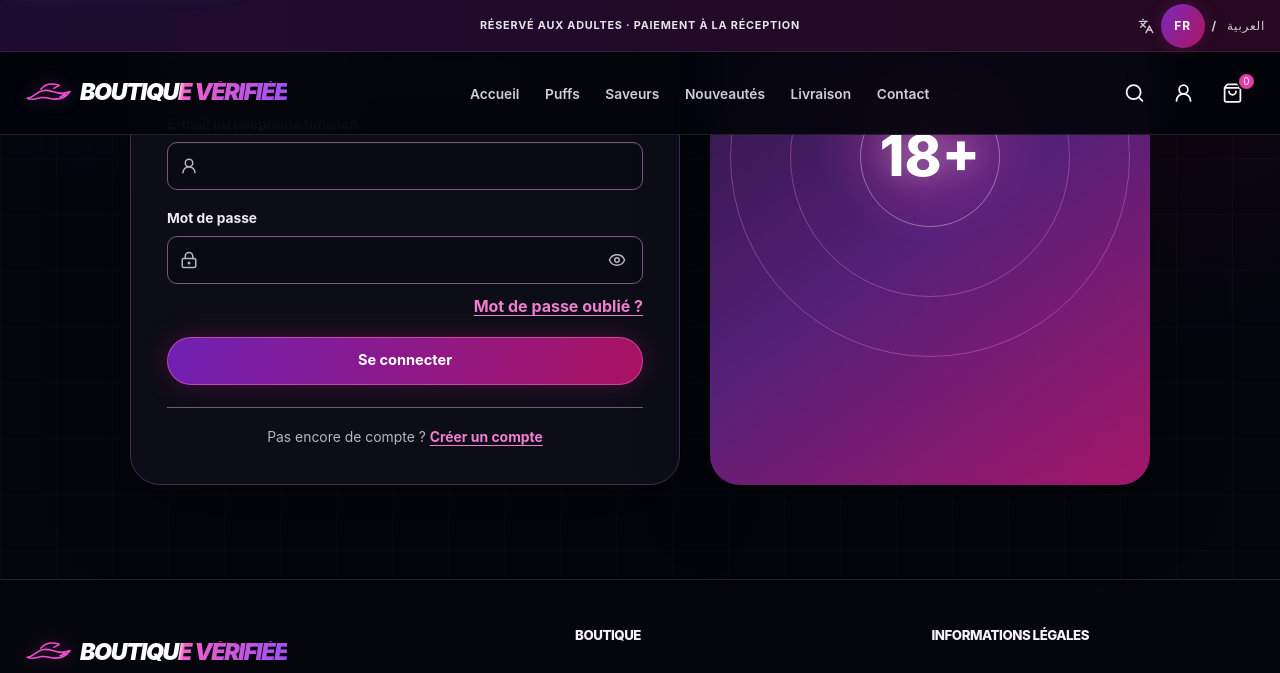
Test: separate authentication forms › shows inline validation on the customer login form
(page scrolled)
Click the button "Se connecter" at coordinates (405, 361), box 167,337 -> 643,385
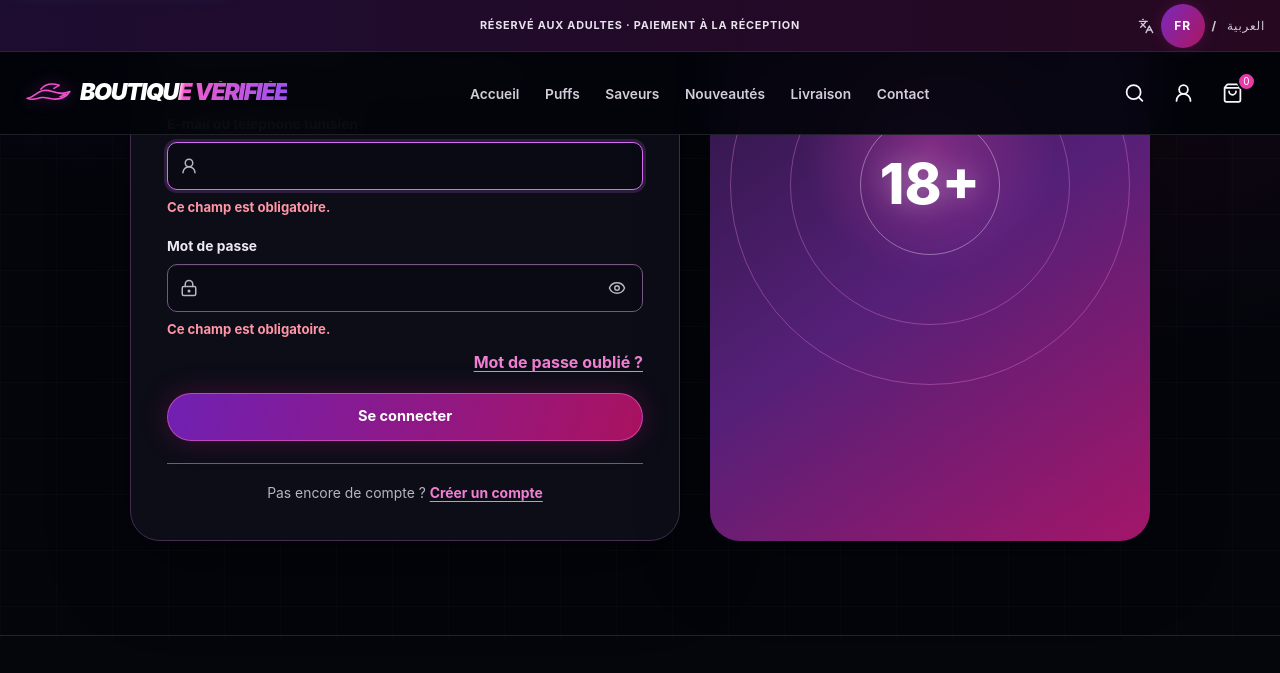
Now the text "Ce champ est obligatoire." is shown 2 times, box 167,199 -> 330,215; 167,321 -> 330,337
